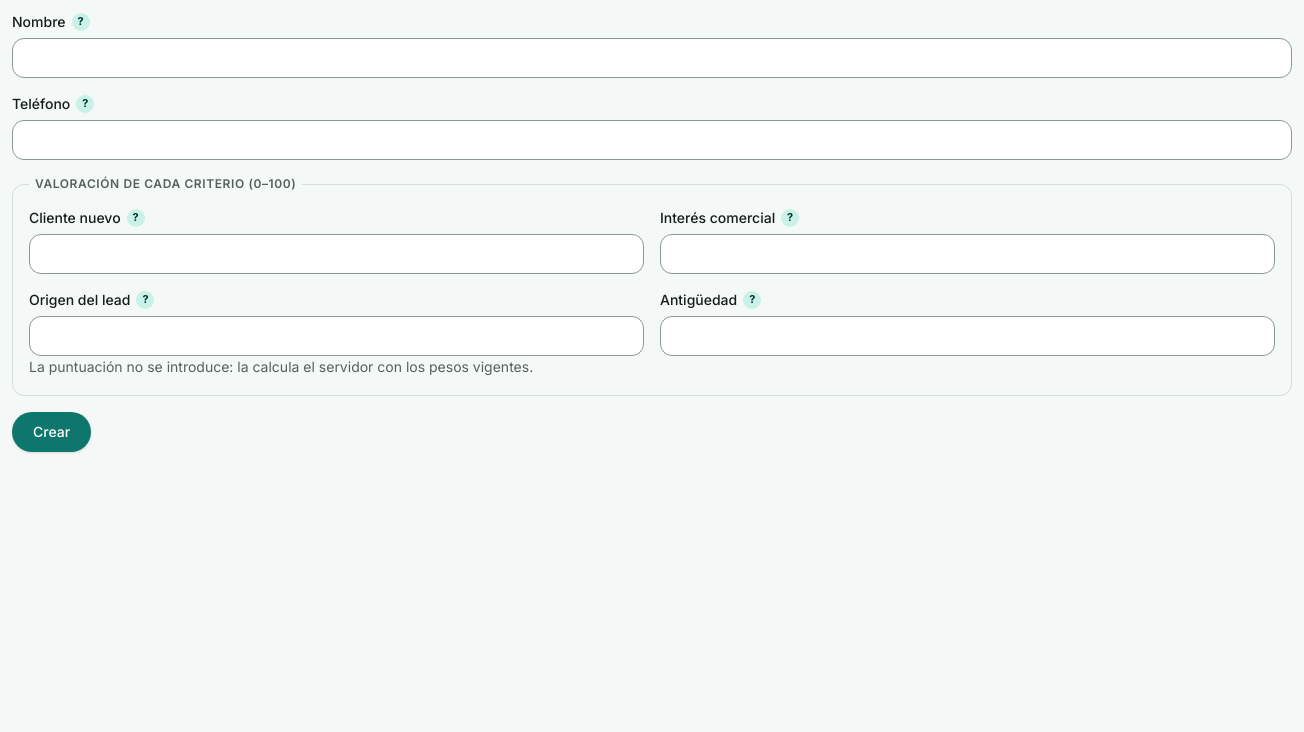
LeadForm › validación en React › al enviar vacío muestra un mensaje por campo y no llama al servidor
This screenshot has width=1304, height=732.
Click the button "Crear": point(52, 432) [12,412,91,452]
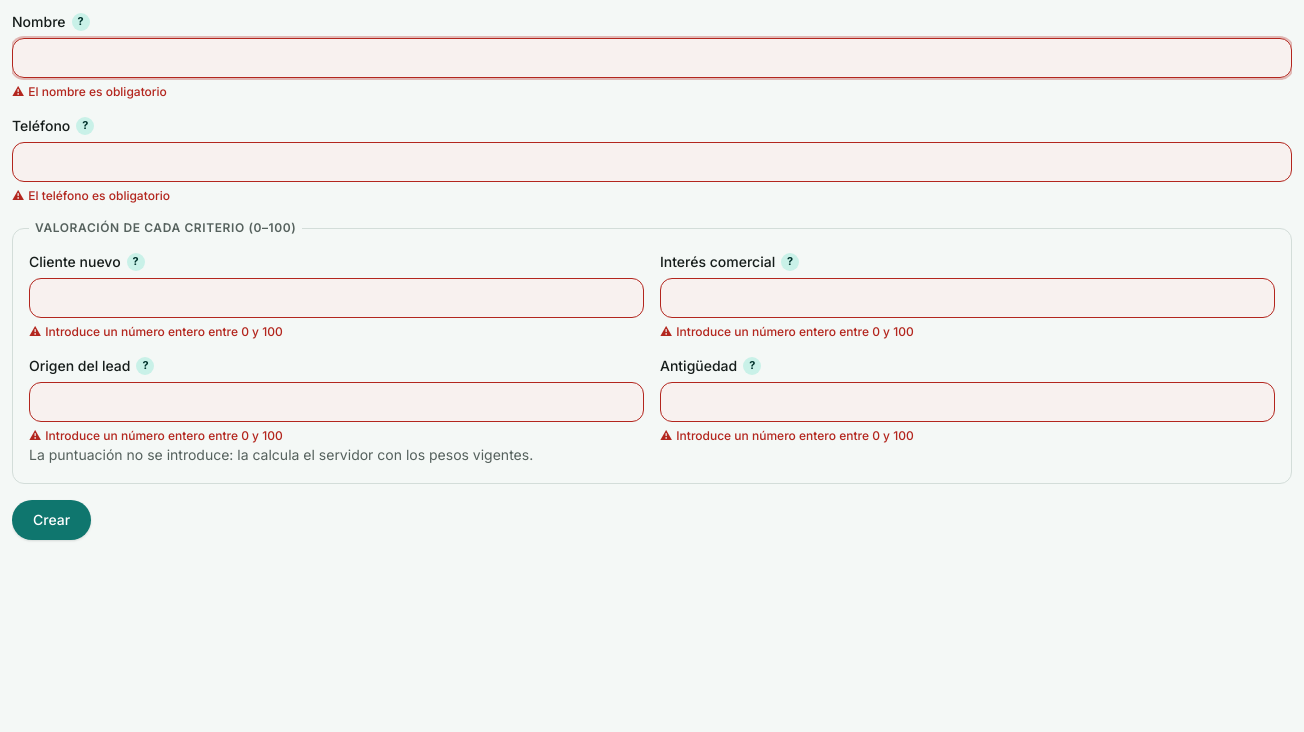
Now the text "El nombre es obligatorio" is shown, box [28,84,167,99]
Now the text "El teléfono es obligatorio" is shown, box [28,188,170,203]
Now the text "Introduce un número entero entre 0 y 100" is shown 4 times, box [45,324,283,339]; [676,324,914,339]; [45,428,283,443]; [676,428,914,443]
